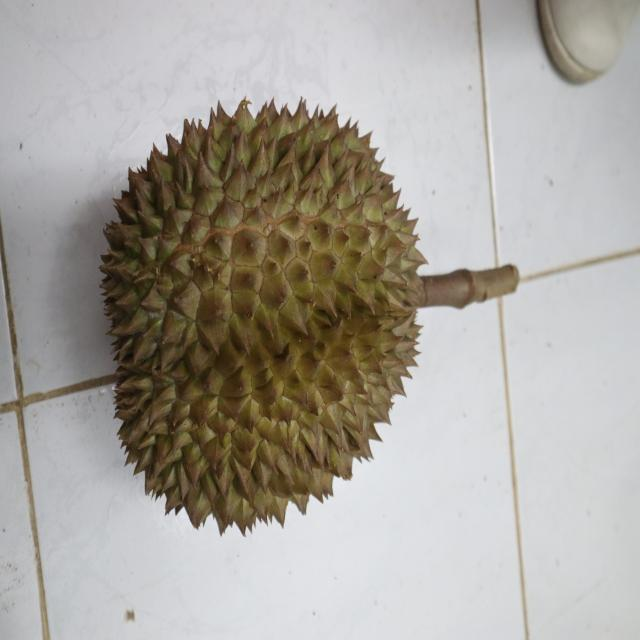mature: (100, 98, 425, 544)
